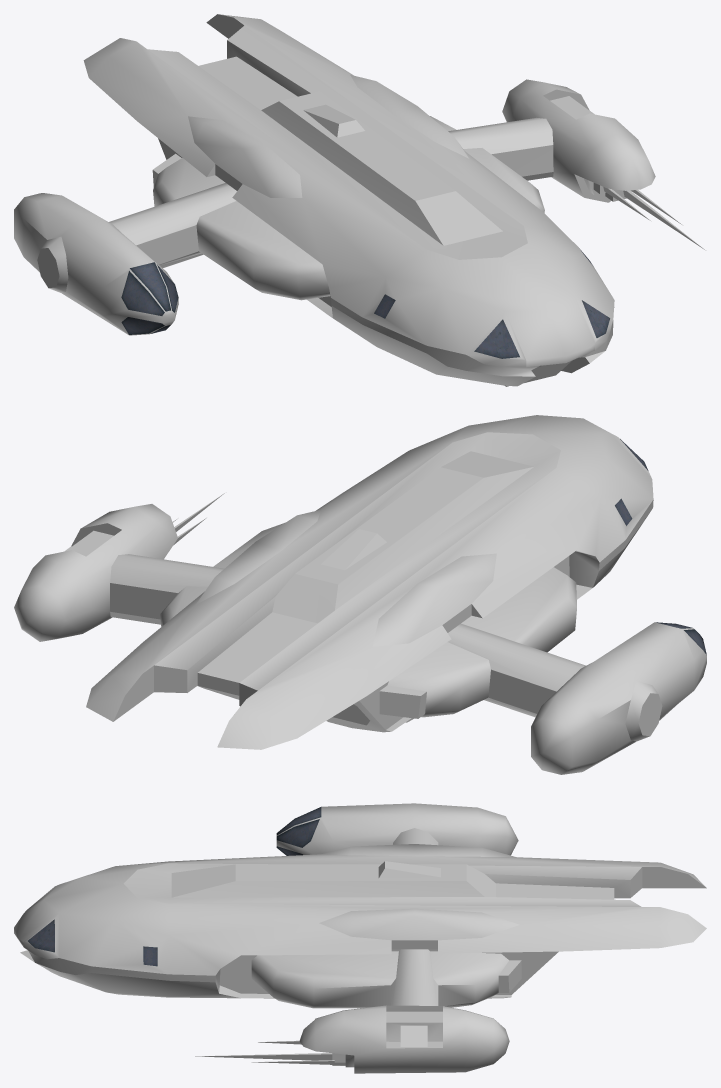
File: ykl37r_npc_l2.fbx
The picture shows the model from 3 angles, top to bottom: view 1: azimuth 30°, elevation 25°; view 2: azimuth 150°, elevation 25°; view 3: azimuth 270°, elevation 25°; orthographic projection. The views are drawn at different scales.
Visible parts, largest first — view 1: mesh_node; view 2: mesh_node; view 3: mesh_node.
Boxes of the visible parts, left/top/right/bottom form: mesh_node: left=14, top=14, right=705, bottom=386; mesh_node: left=14, top=415, right=706, bottom=774; mesh_node: left=14, top=803, right=706, bottom=1073.
Size of the model in its own units: 39.4 by 10.08 by 49.9.
